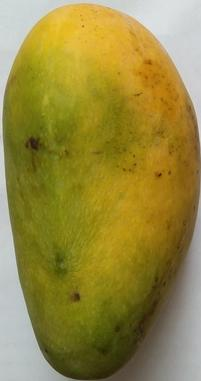PartiallyRipe: (0, 1, 201, 381)
